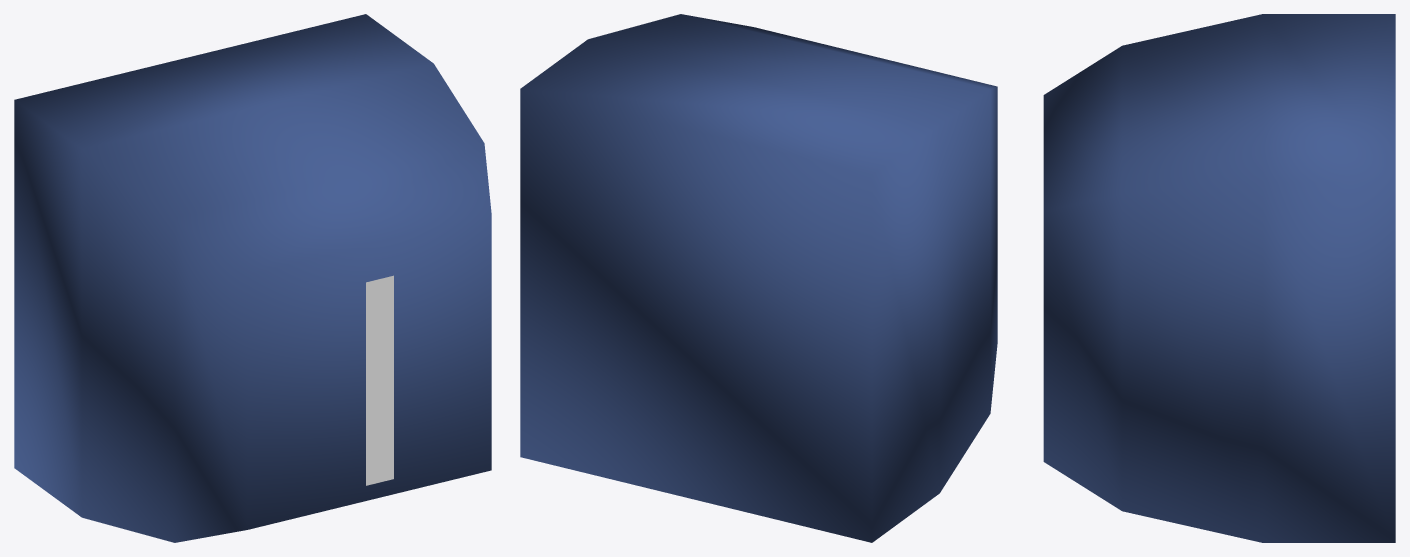
The model's file is lockbutton1.glb.
3 renders of one model, left to right at view 1: azimuth 30°, elevation 25°; view 2: azimuth 150°, elevation 25°; view 3: azimuth 270°, elevation 25°, orthographic. The views are drawn at different scales.
Parts seen in each view (by area): view 1: Text; view 2: Text; view 3: Text.
Part boxes in pixels (x1,y1,x2,y2): Text: [14, 14, 491, 542]; Text: [520, 14, 997, 542]; Text: [1043, 14, 1395, 542].
Bounding box in the file's own units: 0.0488 × 0.0488 × 0.0452.
